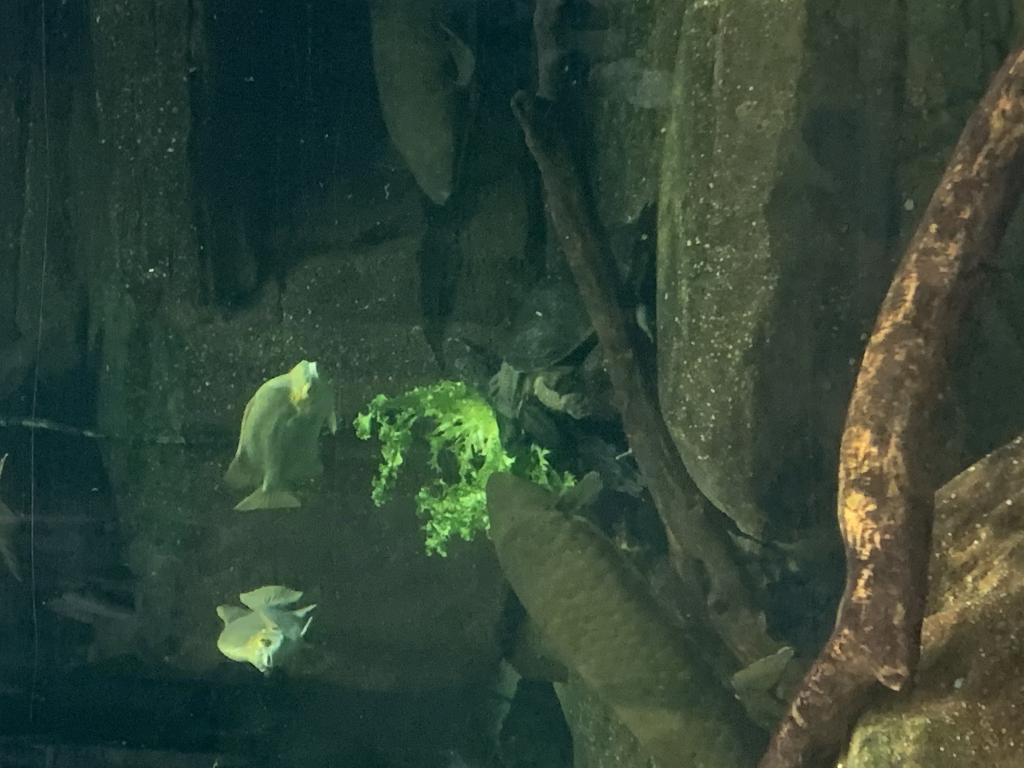fish: (221, 356, 339, 514), (213, 583, 321, 679)
